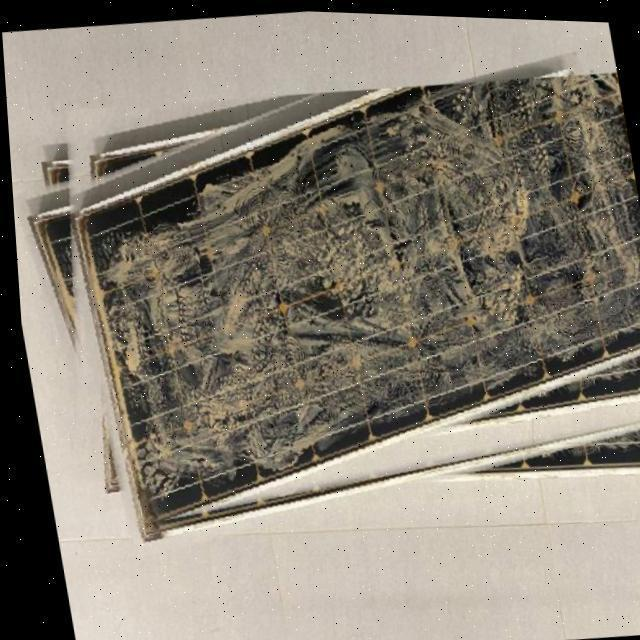Anomaly Solar Panel: (68, 61, 640, 525)
Surface Contaminant: (86, 67, 640, 512)
